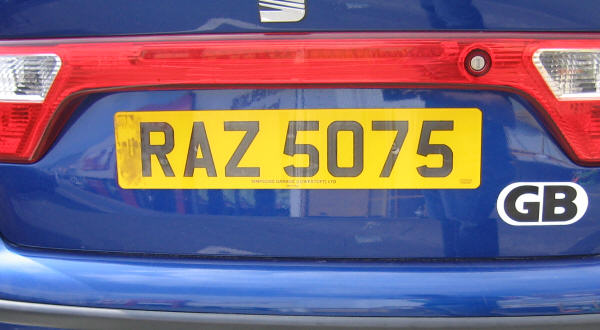license_plate: (113, 107, 482, 192)
